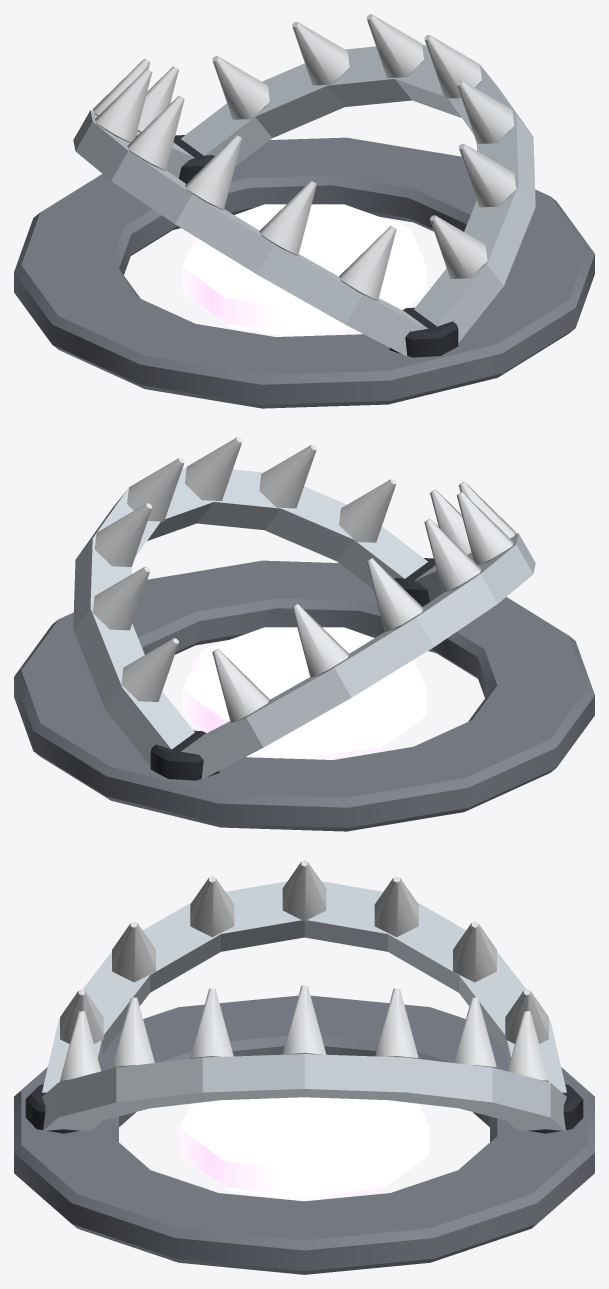
File: R4D_SnareTrap_LOD1.fbx
The picture shows the model from 3 angles, top to bottom: view 1: azimuth 30°, elevation 25°; view 2: azimuth 150°, elevation 25°; view 3: azimuth 270°, elevation 25°; orthographic projection. The views are drawn at different scales.
Visible parts, largest first — view 1: R4D_SnareTrap_LOD1; view 2: R4D_SnareTrap_LOD1; view 3: R4D_SnareTrap_LOD1.
Part boxes in pixels (box(x1,y1,x2,y2)): R4D_SnareTrap_LOD1: box(14, 14, 594, 408); R4D_SnareTrap_LOD1: box(14, 437, 594, 831); R4D_SnareTrap_LOD1: box(14, 860, 594, 1274).
Bounding box in the file's own units: 0.47 × 0.1997 × 0.4582.
